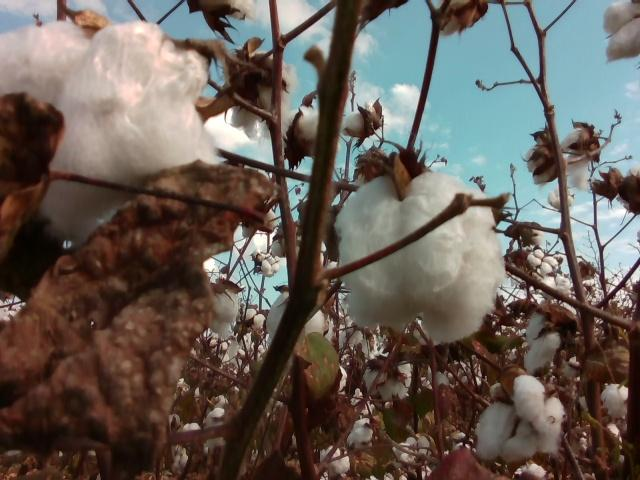cotton_ready: (0, 22, 219, 242), (339, 170, 504, 344), (476, 374, 567, 459), (226, 60, 296, 142), (265, 291, 328, 345), (523, 311, 564, 375), (604, 0, 640, 64), (203, 289, 240, 340), (562, 126, 590, 190), (279, 105, 324, 143), (524, 143, 554, 187), (210, 0, 265, 24), (341, 101, 377, 134)
